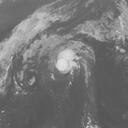cyclone: (55, 45, 88, 75)
